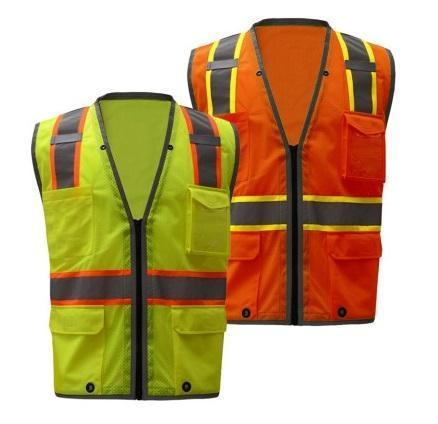vest: (185, 19, 395, 326), (32, 93, 238, 403)
